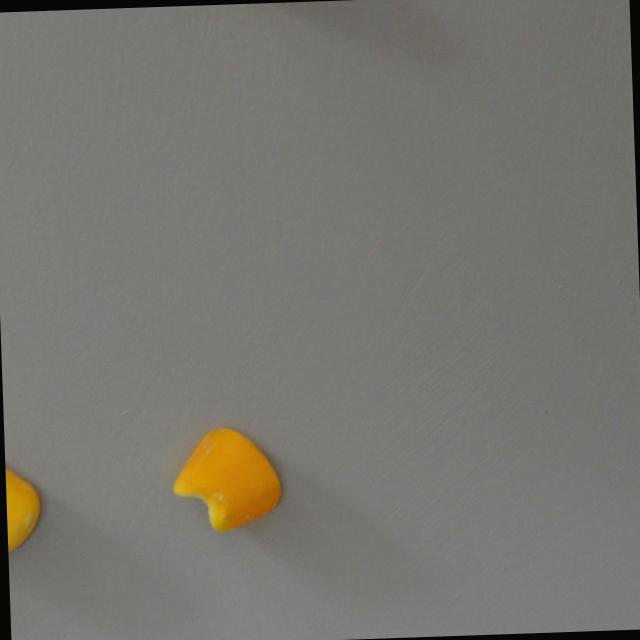no_canjicado: (168, 423, 282, 534)
pelicula: (4, 448, 42, 563)
